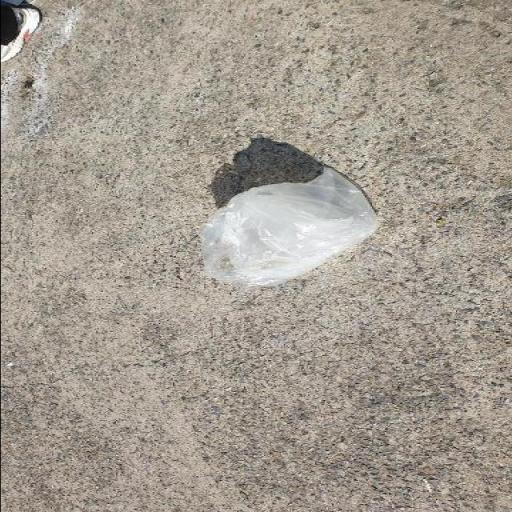plastic-bag: (204, 166, 386, 284)
